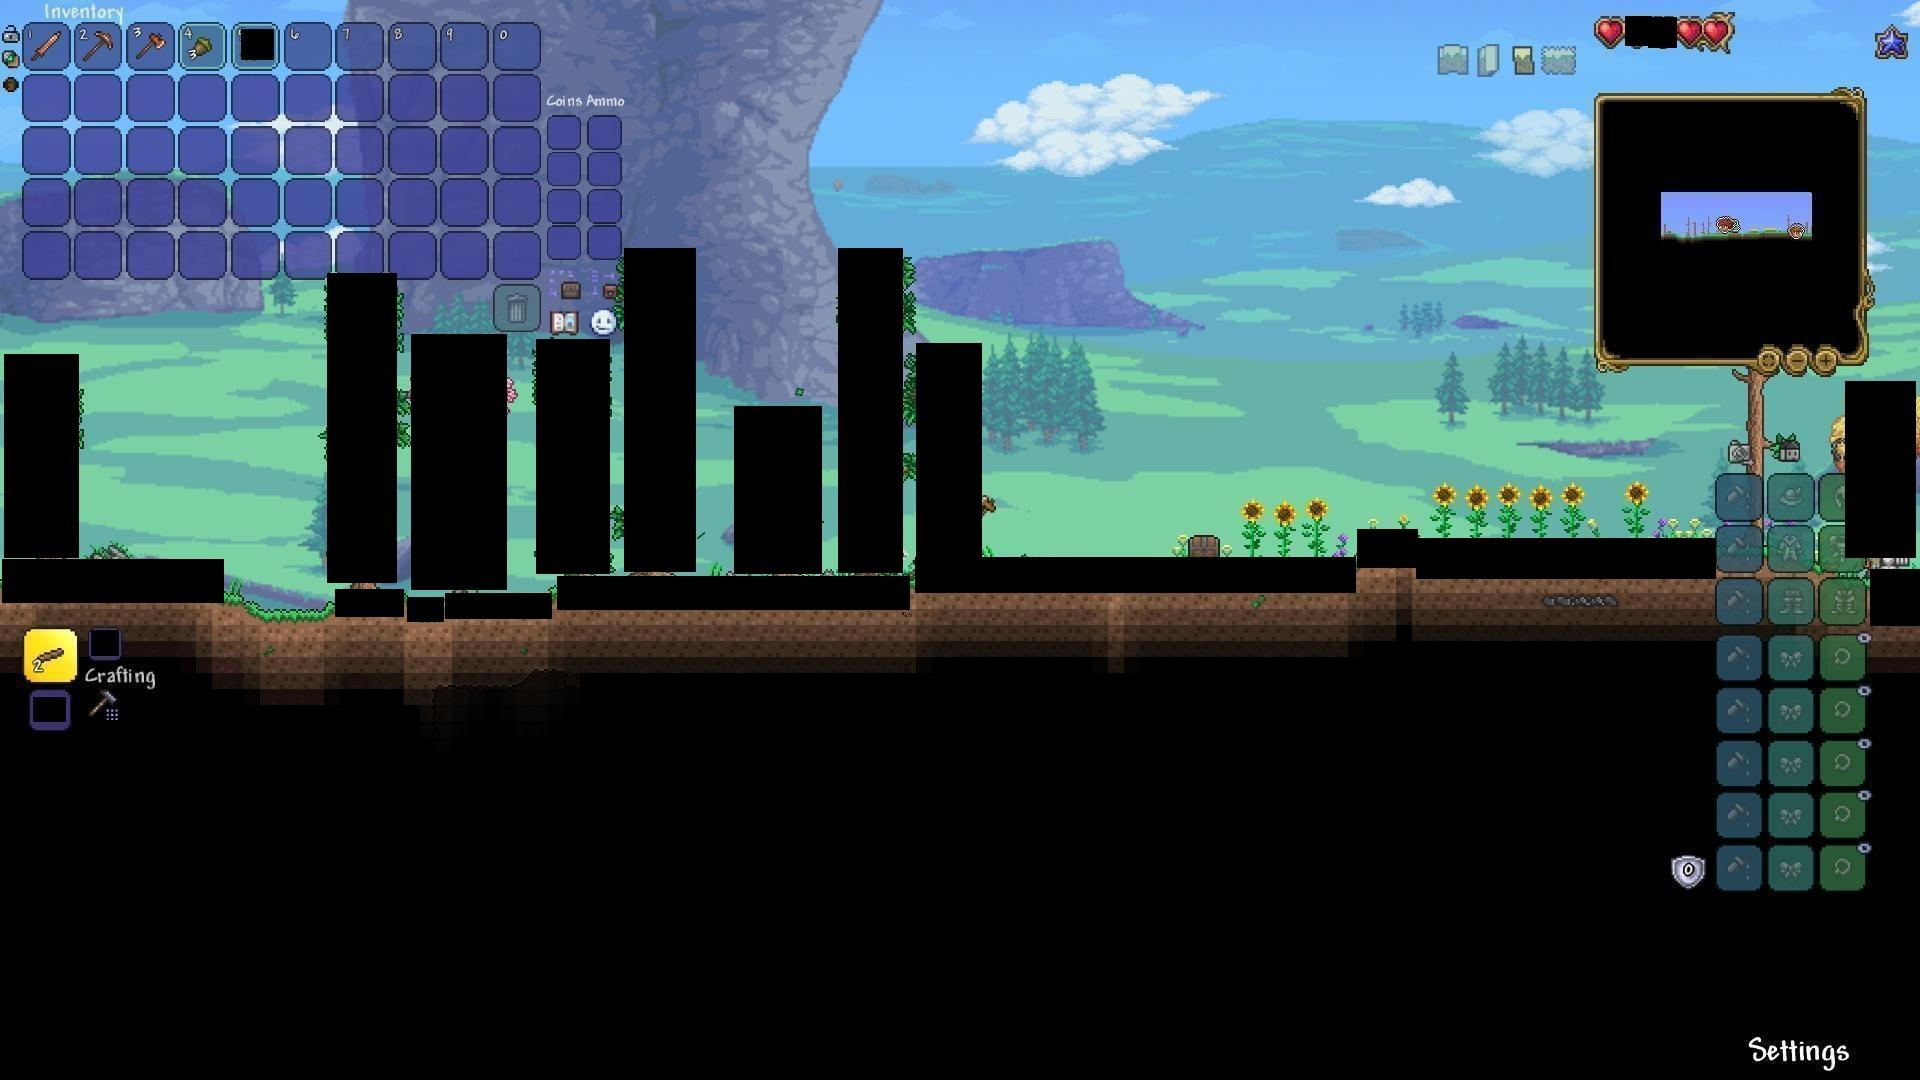dirt: (228, 588, 328, 620)
heart: (1675, 16, 1704, 47), (1704, 16, 1731, 47), (1596, 15, 1625, 44)
